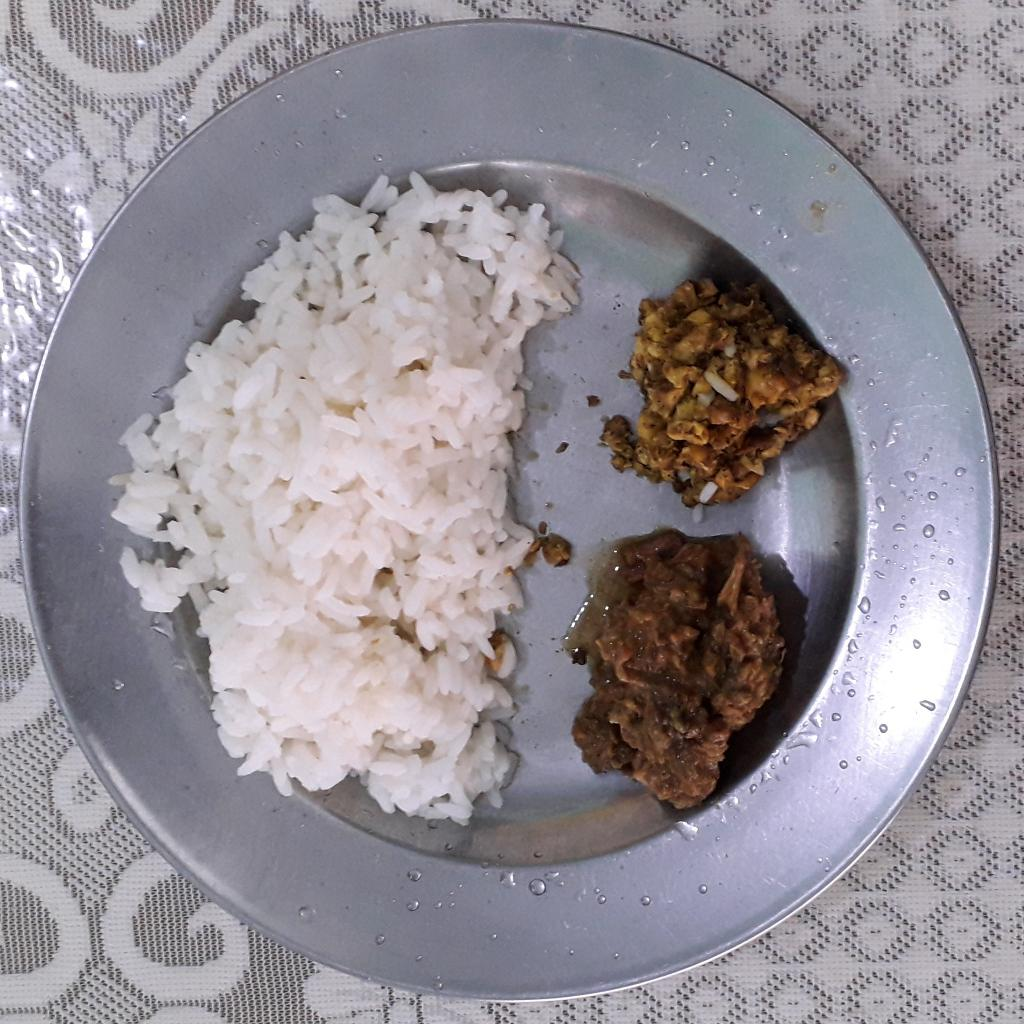beef: (549, 531, 790, 803)
korola-vaji: (601, 272, 846, 510)
rice: (107, 169, 575, 820)
